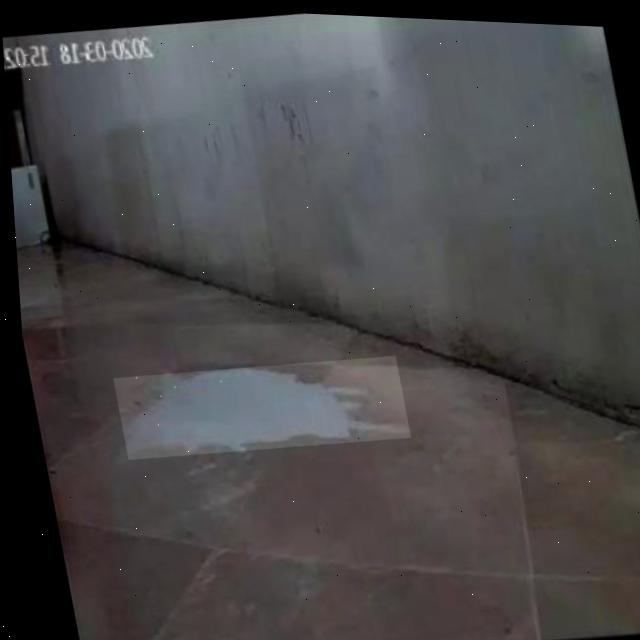spillage: (118, 366, 404, 455)
